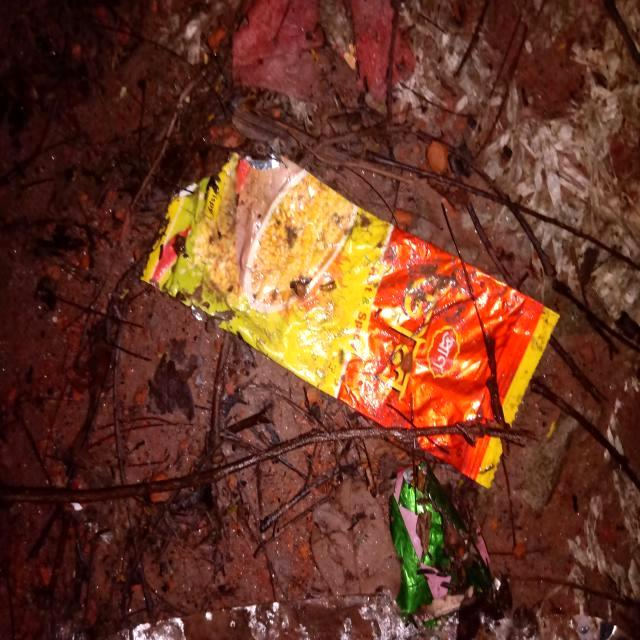packet: (165, 120, 544, 448), (383, 467, 501, 613)
